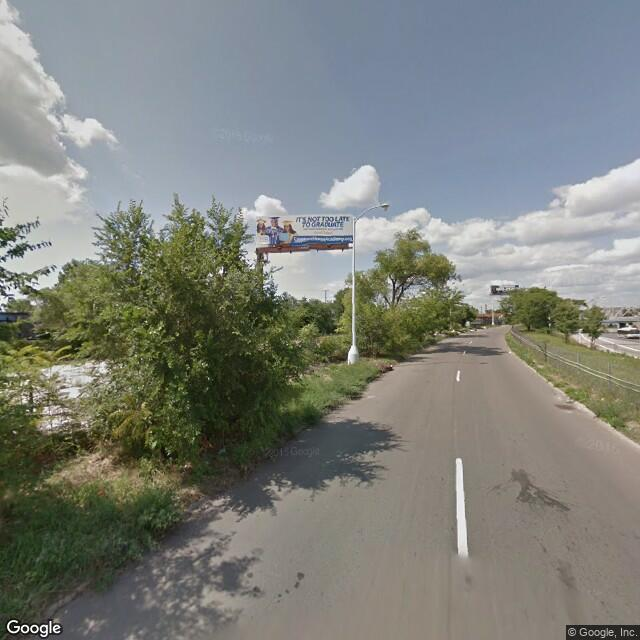litter: (566, 397, 574, 404), (508, 350, 514, 356), (390, 362, 394, 370)
